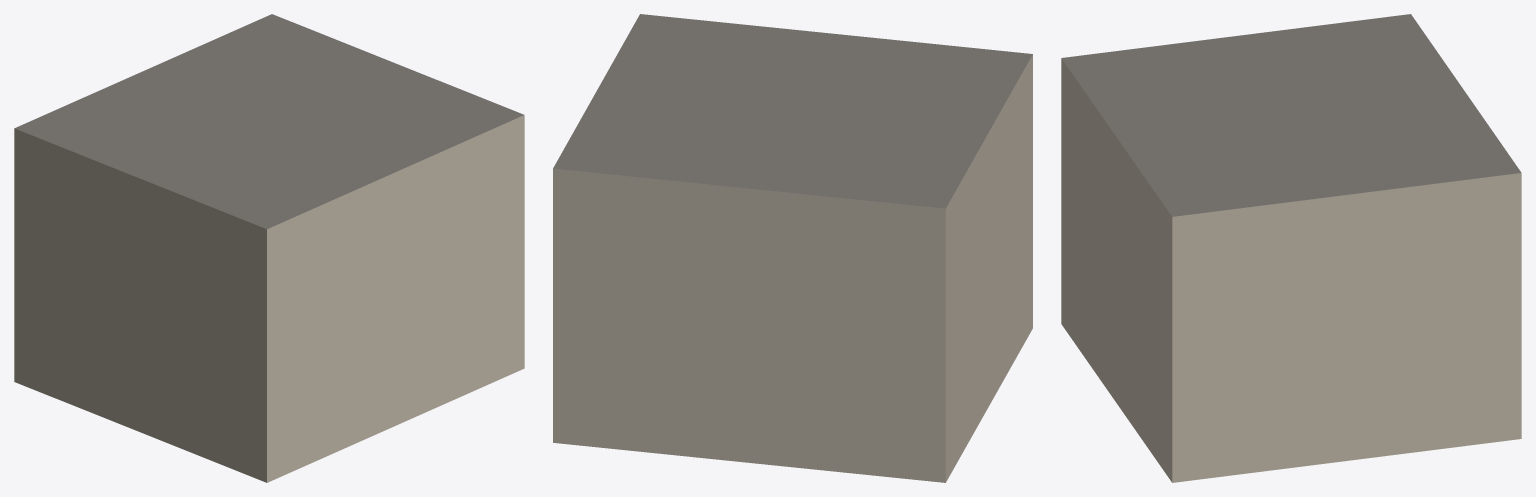
3 views of the same model, side by side, from view 1: azimuth 30°, elevation 25°; view 2: azimuth 150°, elevation 25°; view 3: azimuth 270°, elevation 25° (orthographic). The views are drawn at different scales.
Visible parts, largest first — view 1: HP-w859488663; view 2: HP-w859488663; view 3: HP-w859488663.
Boxes of the visible parts, x1,y1,x2,y2 form: HP-w859488663: [14, 14, 524, 482]; HP-w859488663: [553, 14, 1032, 482]; HP-w859488663: [1061, 14, 1521, 482].
Bounding box in the file's own units: 19.63 × 12 × 18.82.
